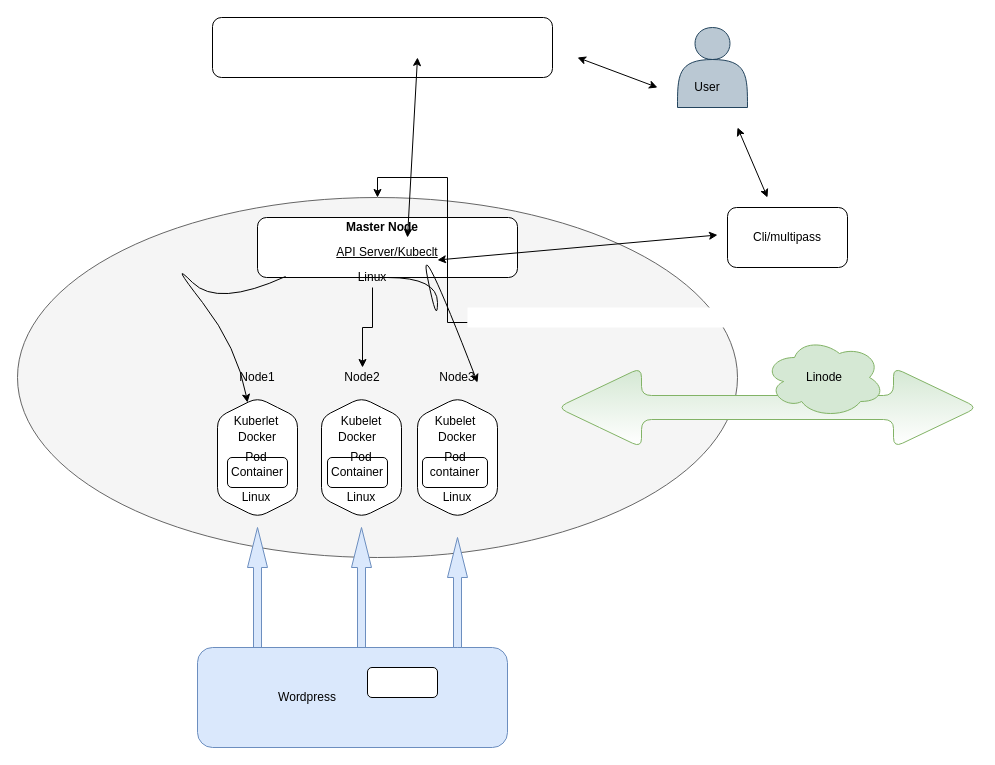
Image size: 995x765. Some labels were removed from this diagram. The centre of each missing label's shape, as x and y in pixels:
"Kuberneties Cluster med 3 Nodes" belongs at (607,317).
"MySQL" belongs at (402,682).
"UI /Browser" belongs at (382,47).
